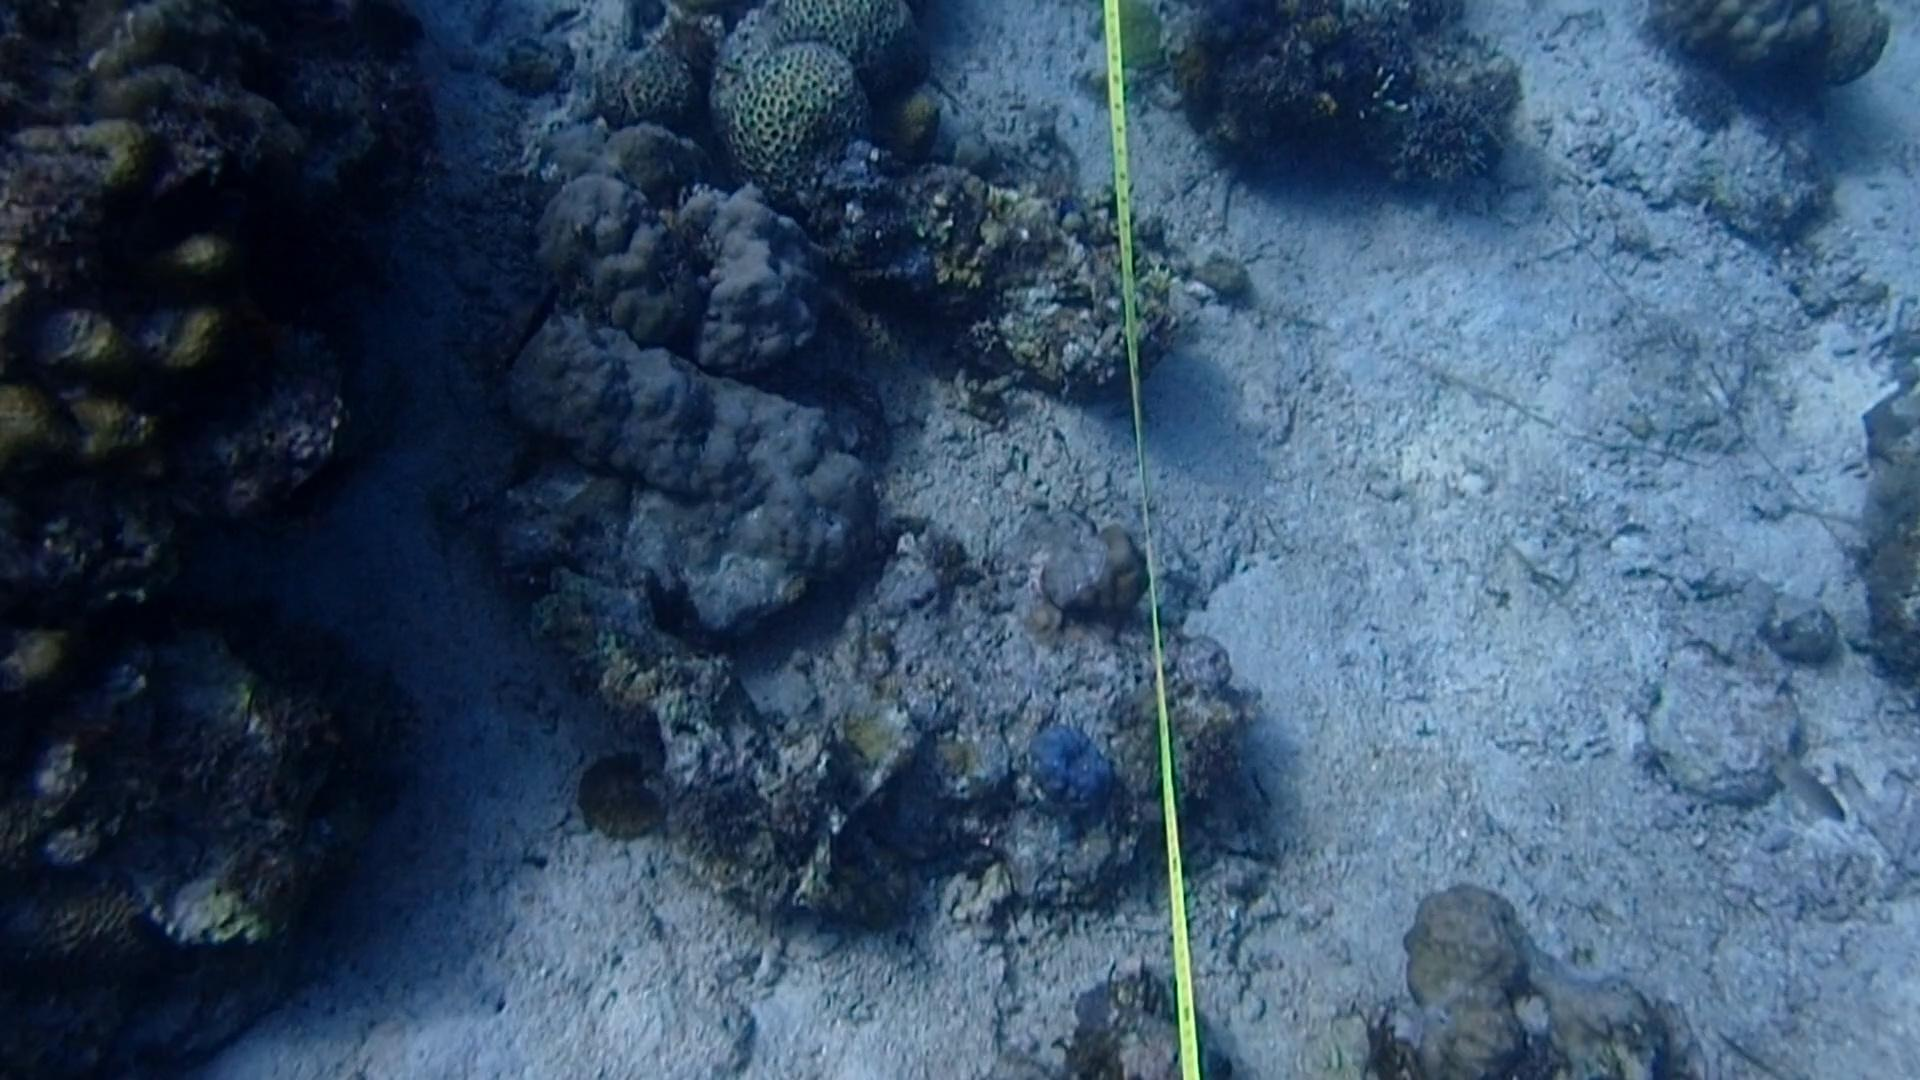Dark Fish: (138, 161, 299, 280), (108, 331, 266, 443), (483, 258, 583, 380), (133, 901, 258, 982)
Light Fish: (1766, 750, 1854, 836)
